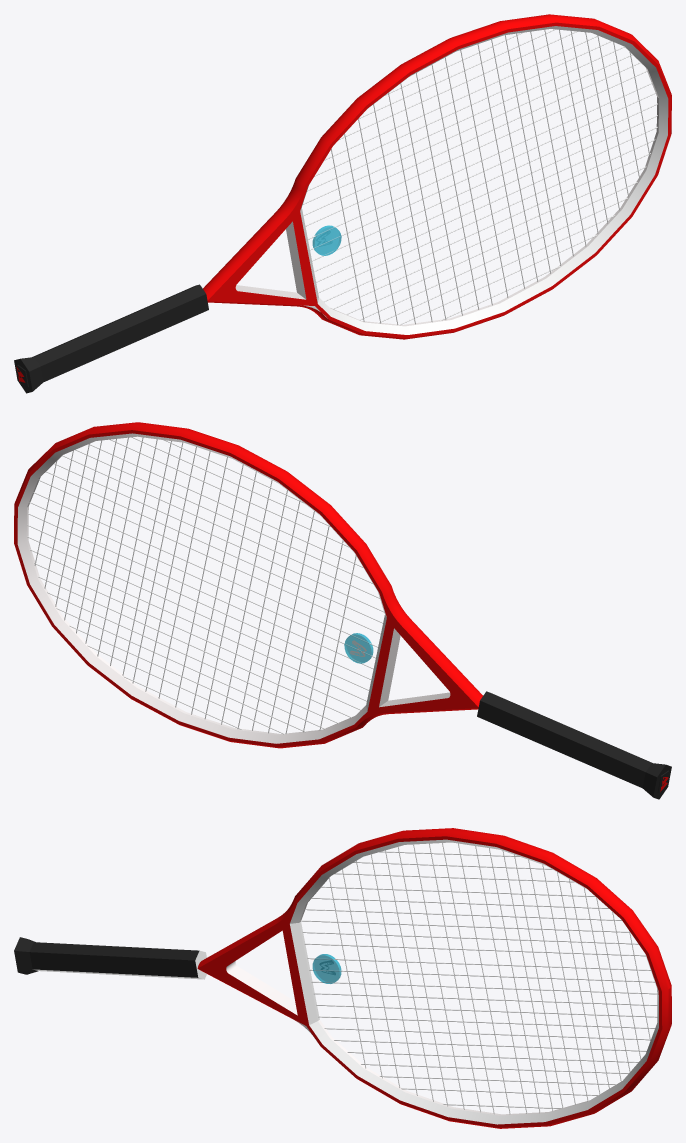
File: racket.fbx
3 renders of one model, top to bottom at view 1: azimuth 30°, elevation 25°; view 2: azimuth 150°, elevation 25°; view 3: azimuth 330°, elevation 25°, orthographic.
Parts seen in each view (by area): view 1: tennis_racket1; view 2: tennis_racket1; view 3: tennis_racket1.
Boxes of the visible parts, left/top/right/bottom form: tennis_racket1: left=14, top=14, right=671, bottom=393; tennis_racket1: left=14, top=422, right=671, bottom=799; tennis_racket1: left=14, top=828, right=671, bottom=1128.
Size of the model in its own units: 793 by 348 by 32.15.
